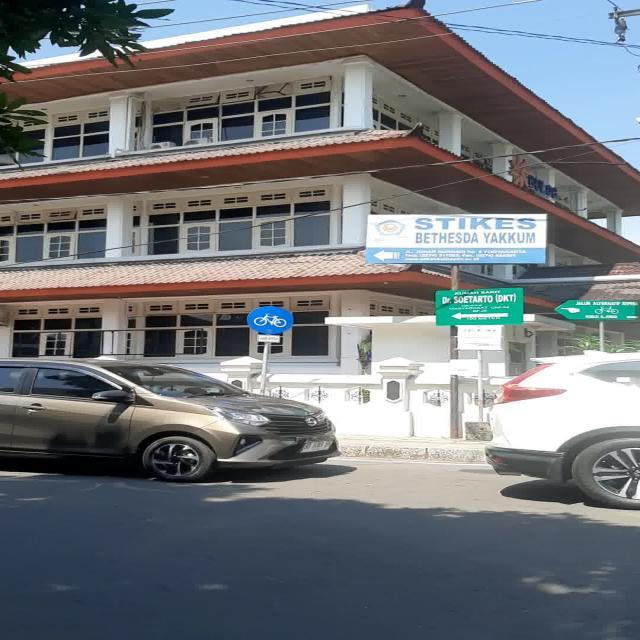Jalur Sepeda: (246, 306, 294, 334)
